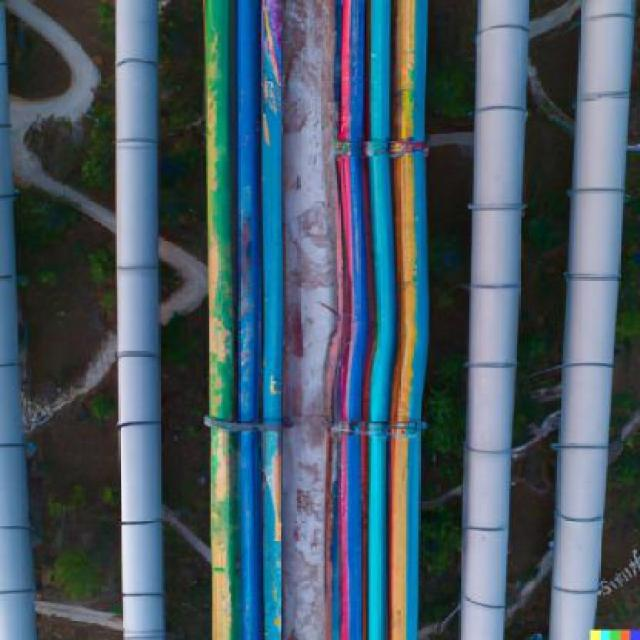gas: (544, 1, 640, 627), (454, 0, 538, 640), (112, 0, 172, 640), (384, 0, 427, 638), (254, 0, 289, 640), (204, 0, 238, 640), (229, 0, 263, 640), (334, 0, 368, 638), (361, 0, 392, 640), (0, 187, 40, 638)
